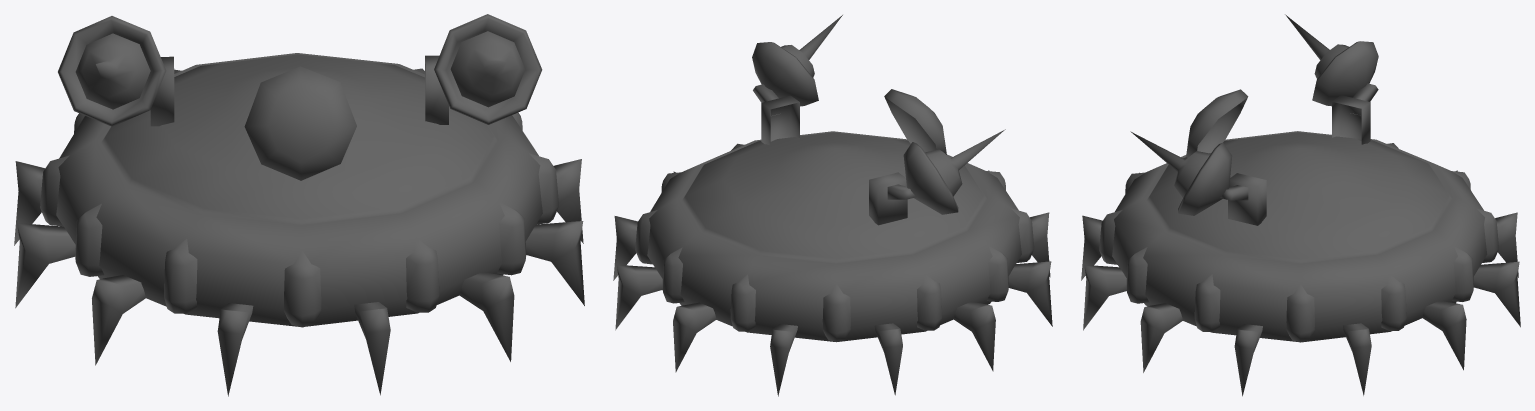
3 views of the same model, side by side, from view 1: azimuth 30°, elevation 25°; view 2: azimuth 150°, elevation 25°; view 3: azimuth 270°, elevation 25° (orthographic). The views are drawn at different scales.
Parts seen in each view (by area): view 1: 810002_2; view 2: 810002_2; view 3: 810002_2.
Part boxes in pixels (x1,y1,x2,y2): 810002_2: [14, 14, 584, 396]; 810002_2: [613, 15, 1052, 396]; 810002_2: [1081, 14, 1520, 396].
Size of the model in its own units: 458 by 242 by 459.
